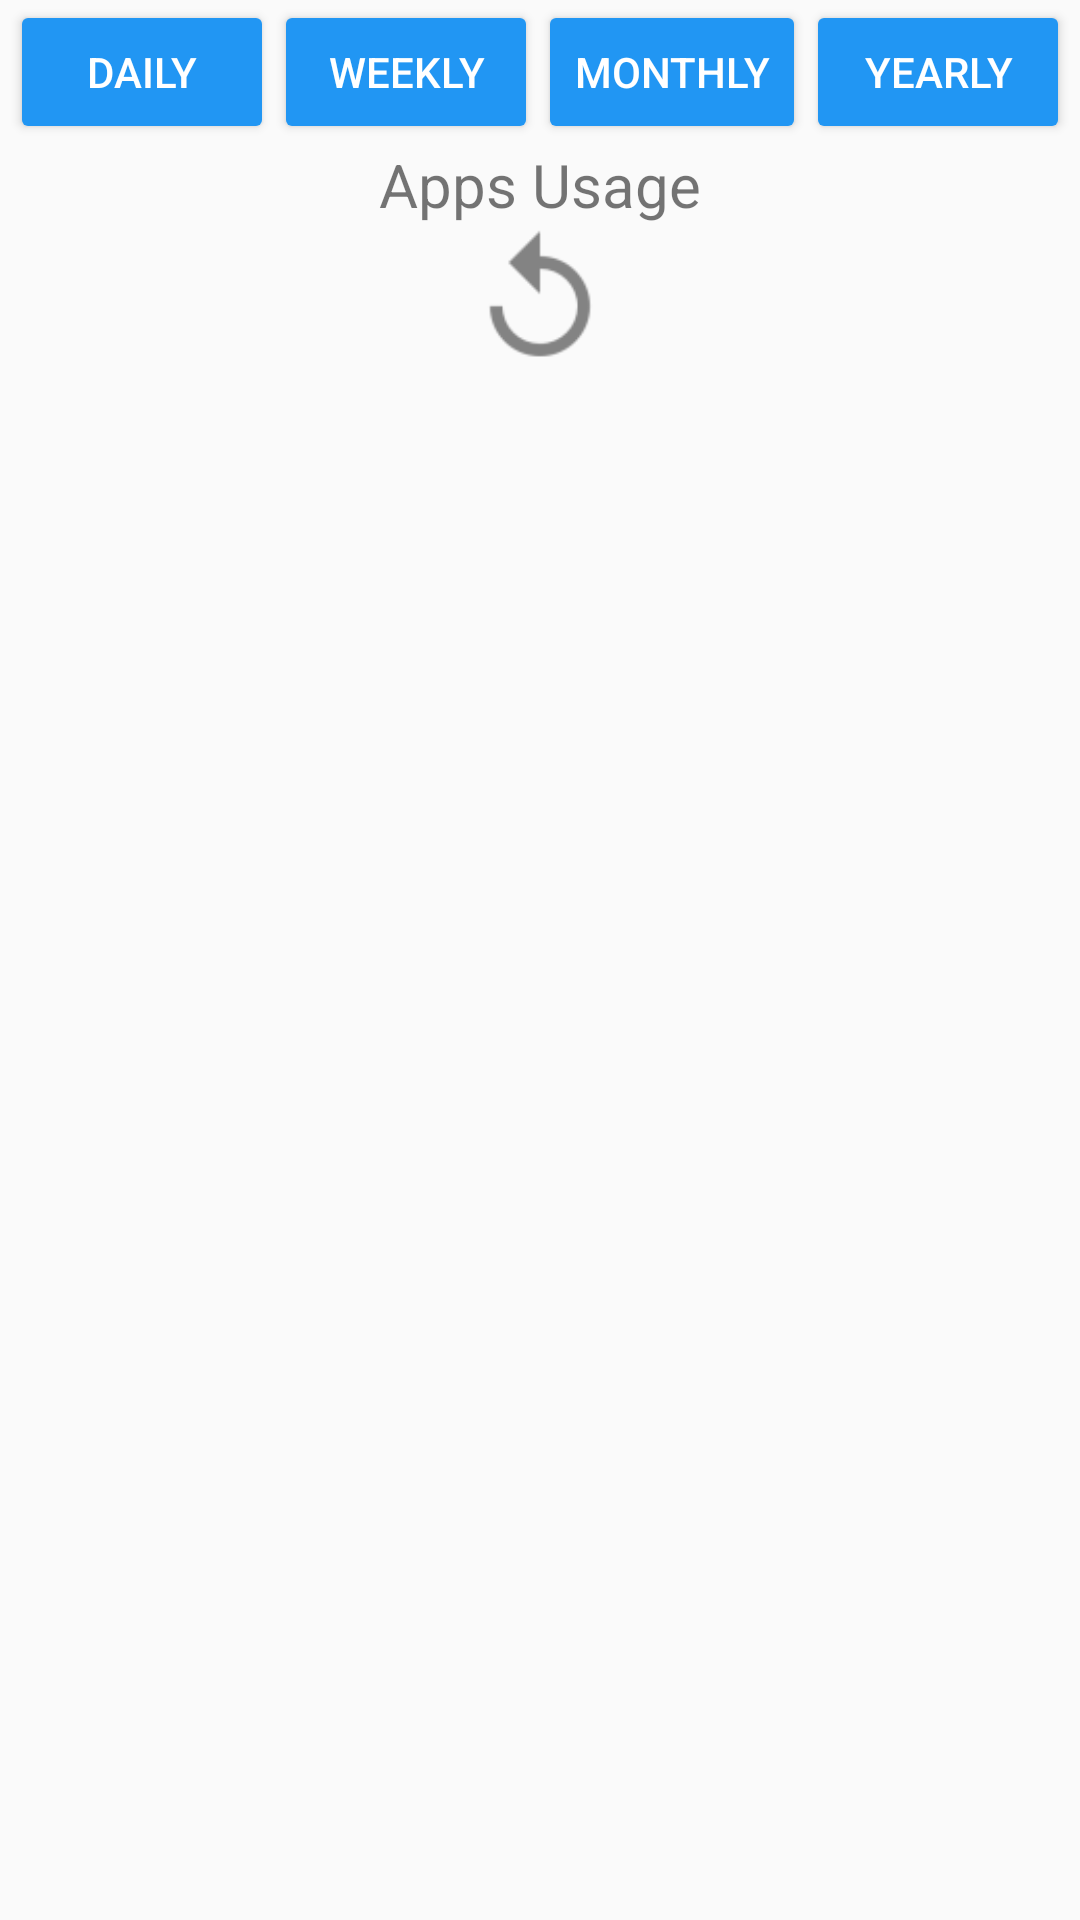

Icons on this 1080 x 1920 Android screen, each with its box as Rect(x1, y1, x2, y2):
reload: Rect(489, 231, 591, 357)
